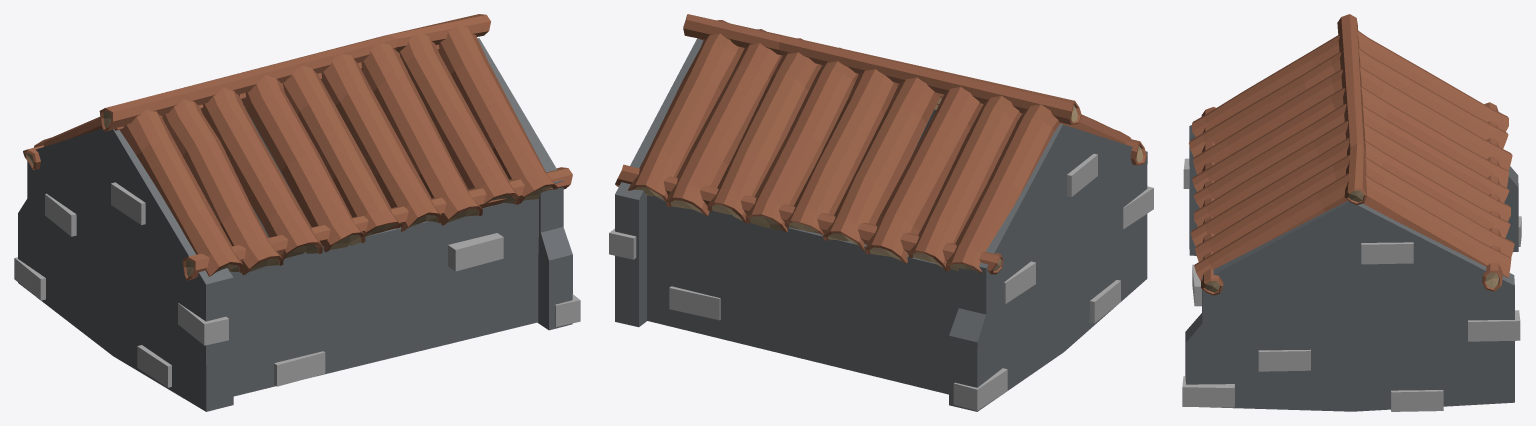
File: LightStoneBuildingLongHouse1.fbx
3 views of the same model, side by side, from view 1: azimuth 30°, elevation 25°; view 2: azimuth 150°, elevation 25°; view 3: azimuth 270°, elevation 25° (orthographic). The views are drawn at different scales.
Parts seen in each view (by area): view 1: LightStoneBuildingLongHouse1, Roof; view 2: LightStoneBuildingLongHouse1, Roof; view 3: LightStoneBuildingLongHouse1, Roof.
Part boxes in pixels (<box>): LightStoneBuildingLongHouse1: <box>14,38,580,411</box>; Roof: <box>23,14,572,280</box>; LightStoneBuildingLongHouse1: <box>609,38,1153,411</box>; Roof: <box>615,14,1146,274</box>; LightStoneBuildingLongHouse1: <box>1182,111,1521,411</box>; Roof: <box>1189,14,1514,295</box>.
Bounding box in the file's own units: 943 × 577 × 770.
